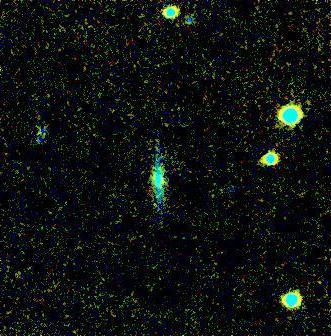star: (140, 189, 170, 219)
